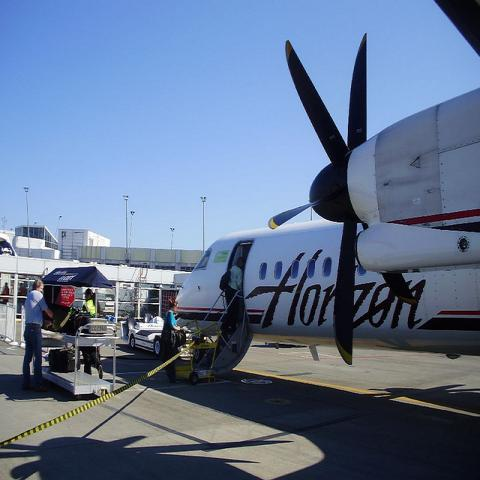car: (127, 313, 164, 357)
